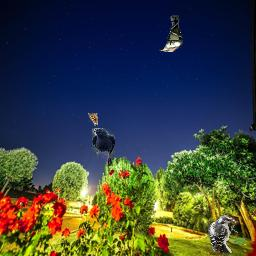Crow: (92, 128, 115, 166)
Cuckoo: (159, 15, 183, 52)
Sparrow: (88, 113, 98, 126)
Woodpecker: (208, 215, 238, 255)
